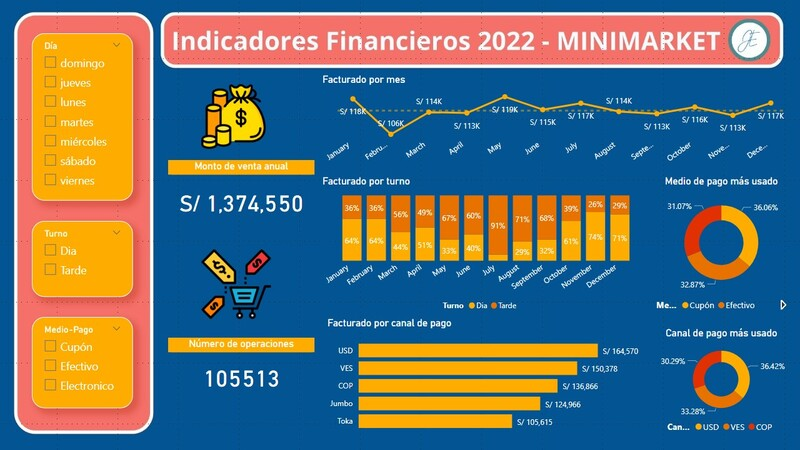

The page's visual inventory and layout, read from the dashboard file:
{"tool":"powerbi","page":{"name":"Fuerza de ventas","canvas":[1280,720],"ordinal":0},"visuals":[{"type":"lineChart","title":"Facturado por mes","fields":{"Y":["Sum(Minimarket.Total)"],"Category":["Minimarket.Close-Factura.Variation.Date Hierarchy.Month"]},"box":[512,120,744,152],"z":0},{"type":"card","title":"Monto de venta anual","fields":{"Values":["Sum(Minimarket.Total)"]},"box":[272,272,232,112],"z":1000},{"type":"donutChart","title":"Canal de pago más usado","fields":{"Y":["Sum(Minimarket.Total)"],"Category":["Minimarket.Canal-Pago"]},"box":[1040,520,216,168],"z":2000},{"type":"slicer","fields":{"Values":["Minimarket.Turno"]},"box":[56,328,168,72],"z":3000},{"type":"hundredPercentStackedColumnChart","title":"Facturado por turno","fields":{"Category":["Minimarket.Close-Factura.Variation.Date Hierarchy.Month"],"Series":["Minimarket.Turno"],"Y":["Sum(Minimarket.Total)"]},"box":[512,288,512,224],"z":4000},{"type":"clusteredBarChart","title":"Facturado por canal de pago","fields":{"Category":["Minimarket.Canal-Pago"],"Y":["Sum(Minimarket.Total)"]},"box":[520,504,504,184],"z":5000},{"type":"slicer","fields":{"Values":["Minimarket.Open-Factura.Variation.Date Hierarchy.Month"]},"box":[56,400,168,256],"z":6000},{"type":"donutChart","title":"Medio de pago más usado","fields":{"Y":["Sum(Minimarket.Total)"],"Series":["Minimarket.Medio-Pago"]},"box":[1040,280,216,224],"z":7000},{"type":"image","box":[304,400,168,112],"z":8000},{"type":"image","box":[320,160,120,104],"z":9000},{"type":"slicer","title":"Cajero","fields":{"Values":["Empleados.Link"]},"box":[56,48,168,200],"z":10000},{"type":"slicer","title":"Nombre","fields":{"Values":["Empleados.Nomcajero"]},"box":[57.4,240.2,167.3,79.8],"z":11000},{"type":"card","title":"Operaciones","fields":{"Values":["Medidas.Operaciones"]},"box":[272,520,232,112],"z":12000}]}

Visuals, with their boxes in screenshot pixels (x1, y1, x2, y2), scaled from the page's 1280x720 canvas onto the 800x450 screenshot:
"Facturado por mes" lineChart: box=[320, 75, 785, 170]
"Monto de venta anual" card: box=[170, 170, 315, 240]
"Canal de pago más usado" donutChart: box=[650, 325, 785, 430]
slicer - Minimarket.Turno: box=[35, 205, 140, 250]
"Facturado por turno" hundredPercentStackedColumnChart: box=[320, 180, 640, 320]
"Facturado por canal de pago" clusteredBarChart: box=[325, 315, 640, 430]
slicer - Minimarket.Open-Factura.Variation.Date Hierarchy.Month: box=[35, 250, 140, 410]
"Medio de pago más usado" donutChart: box=[650, 175, 785, 315]
image: box=[190, 250, 295, 320]
image: box=[200, 100, 275, 165]
"Cajero" slicer: box=[35, 30, 140, 155]
"Nombre" slicer: box=[36, 150, 140, 200]
"Operaciones" card: box=[170, 325, 315, 395]
